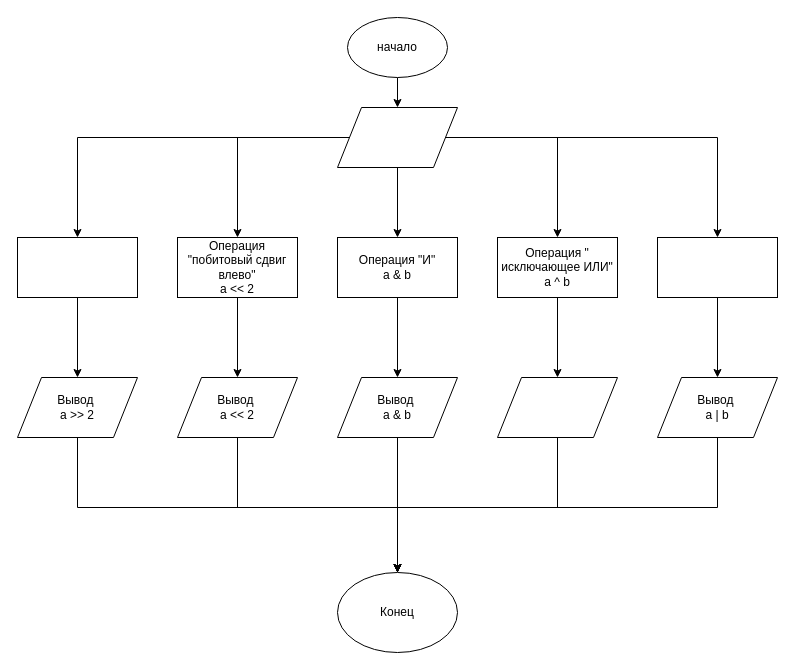
This 795x670 diagram has some shape labels left out. Each missing label, with the centre of its shape:
a = 5, b = 6: (x=397, y=137)
Вывод a ^ b: (x=557, y=407)
Операция " ИЛИ" a | b: (x=717, y=267)
Операция "побитовый сдвиг вправо" a >> 2: (x=77, y=267)
